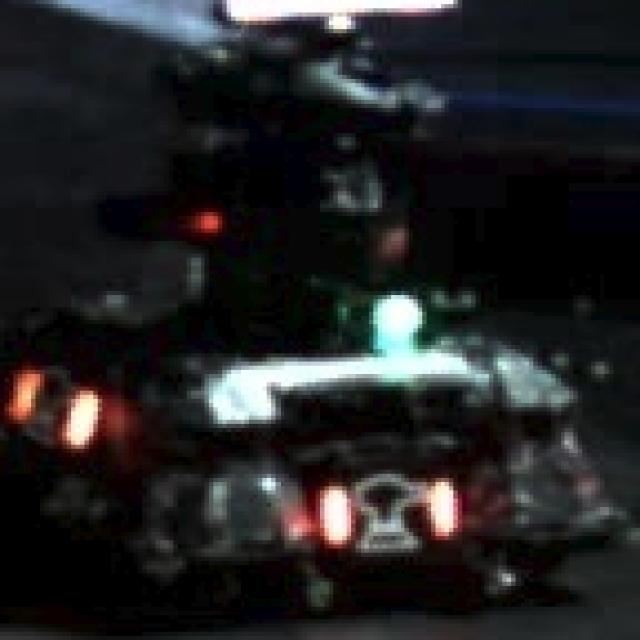Rs: (311, 470, 462, 544), (9, 362, 107, 457)
